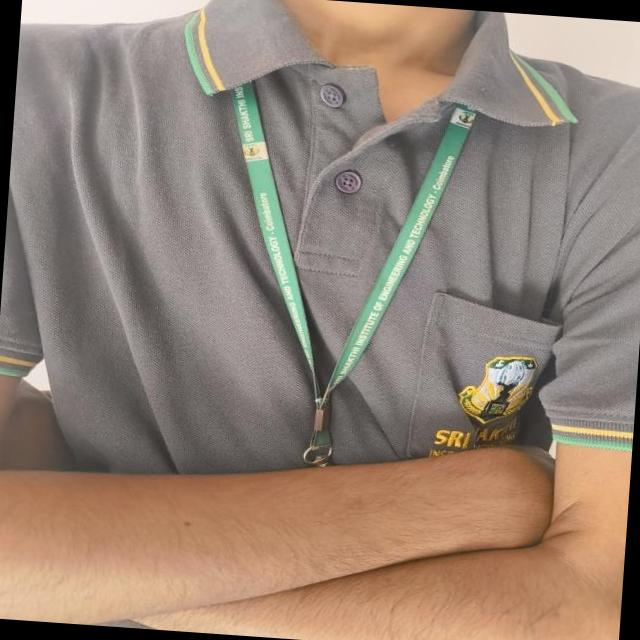id_card: (211, 61, 478, 470)
